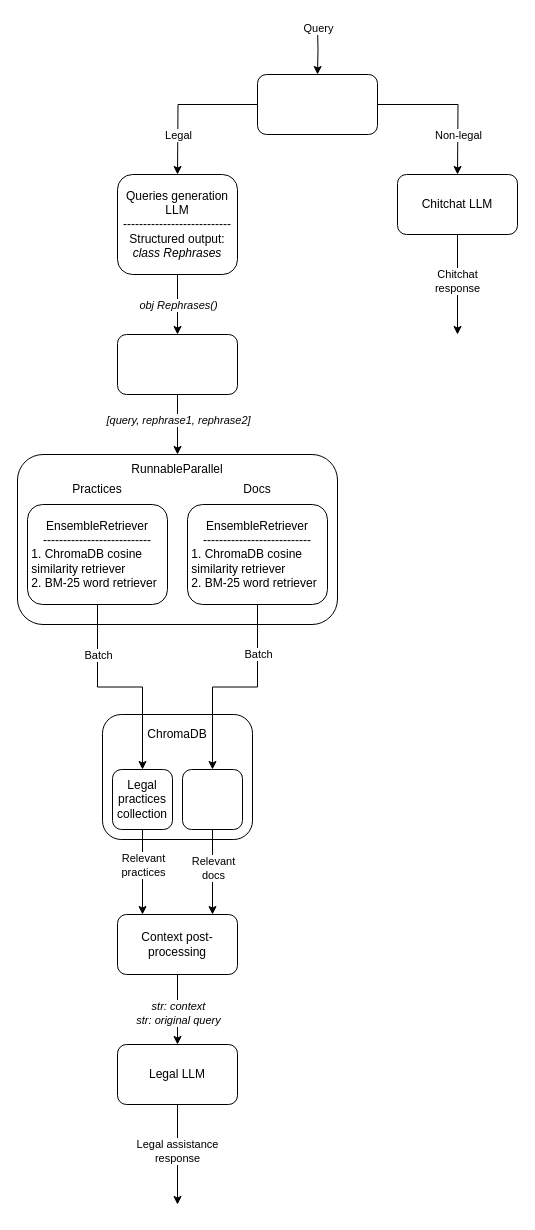
The diagram is 535 pixels wide and 1230 high, and some of its shapes have lost their labels. Here are the shapes that lost their labels. From the top down, the centre of each, then its label:
(317,104): LLM-based classification
(177,364): Queries validation
(212,799): Legal docs collection
